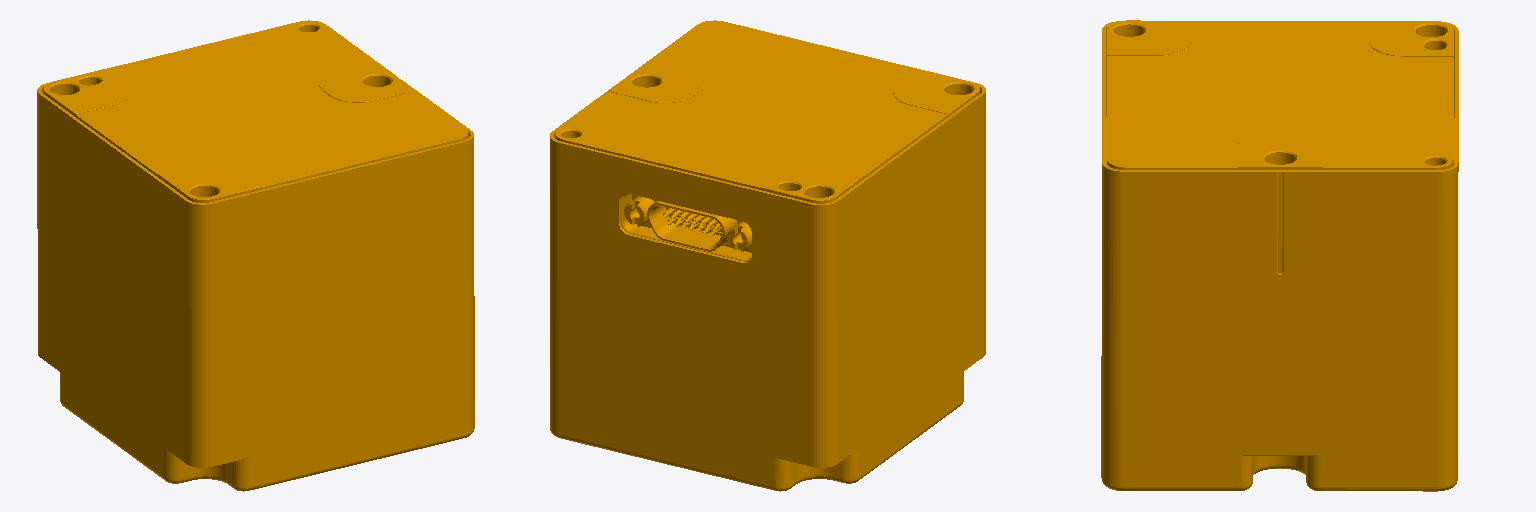
robot.urdf — imu:
<?xml version="1.0"?>
<robot name="imu">
    <link name="imu">
        <visual>
            <origin  rpy="3.14 0 0" xyz="0.1 -0.76 0.33" />
            <geometry>
                <mesh filename="package://dmu_ros/meshes/dmu41.stl" scale="0.04 0.04 0.04"/>
            </geometry>
        </visual>
    </link>
</robot>

--- What the picture shows (computed from the rendered views, not written in the file) ---
The picture shows the robot from 3 angles, left to right: view 1: azimuth 30°, elevation 25°; view 2: azimuth 150°, elevation 25°; view 3: azimuth 270°, elevation 25°; orthographic projection.
Robot: imu — 1 links, 0 joints (none); root link imu; default pose: all joints at 0.
Links seen in each view (by area): view 1: imu; view 2: imu; view 3: imu.
Boxes of the visible links, bbox=[...] form: imu: bbox=[37, 20, 474, 491]; imu: bbox=[550, 20, 985, 491]; imu: bbox=[1101, 20, 1458, 491].
Size in the robot's own frame: 2.01 by 2.02 by 2.03 metres.
1 mesh visuals loaded from 1 distinct referenced files (1 binary STL).
